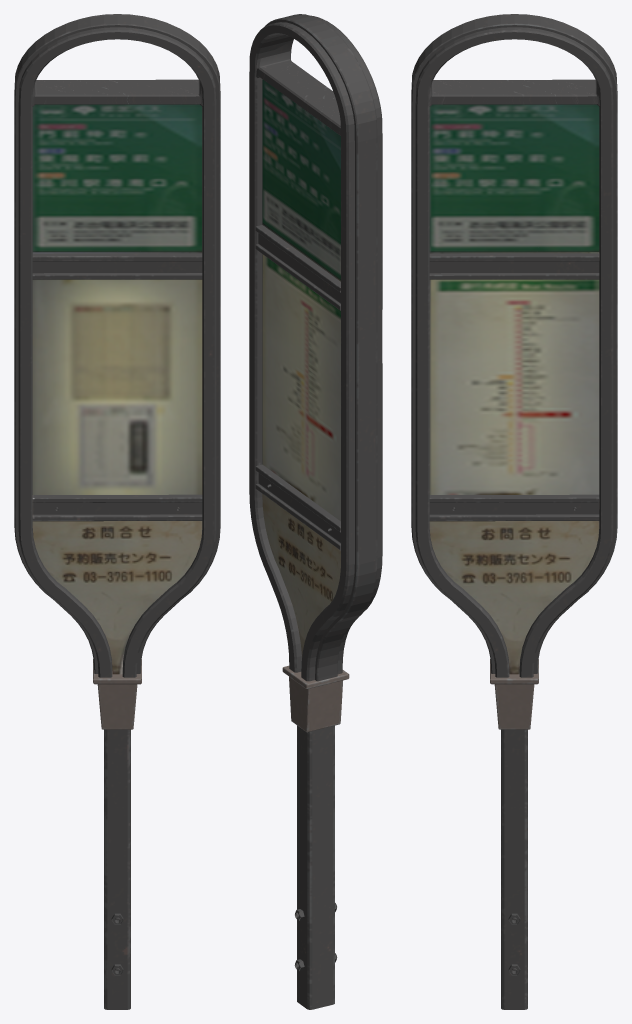
The model's file is Preset_BusSignA.fbx.
The picture shows the model from 3 angles, left to right: view 1: azimuth 90°, elevation 25°; view 2: azimuth 210°, elevation 25°; view 3: azimuth 270°, elevation 25°; orthographic projection.
Visible parts, largest first — view 1: Info_EmitA, Frame; view 2: Frame, Info_EmitB; view 3: Info_EmitB, Frame.
Boxes of the visible parts, bbox=[...] form: Info_EmitA: bbox=[32, 104, 202, 674]; Frame: bbox=[14, 14, 220, 1009]; Frame: bbox=[249, 14, 382, 1009]; Info_EmitB: bbox=[262, 79, 340, 657]; Info_EmitB: bbox=[429, 104, 599, 674]; Frame: bbox=[411, 14, 617, 1009].
Size of the model in its own units: 10.69 by 43.68 by 230.
2 materials, 2 textured.
